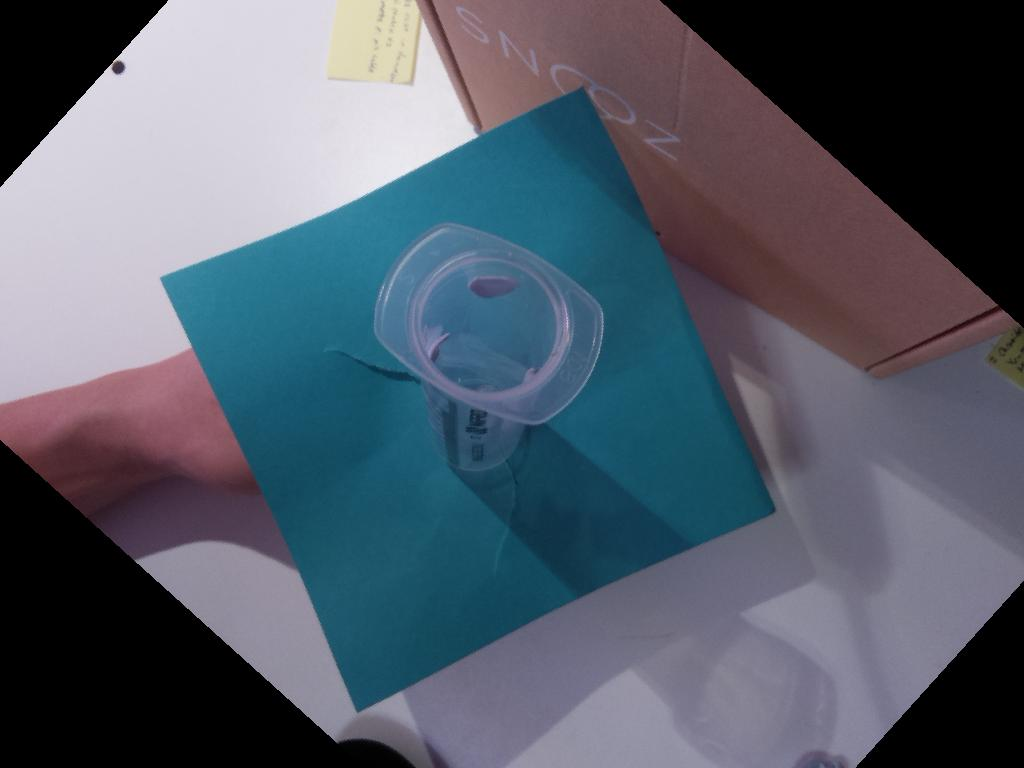dirty: (374, 222, 605, 424)
